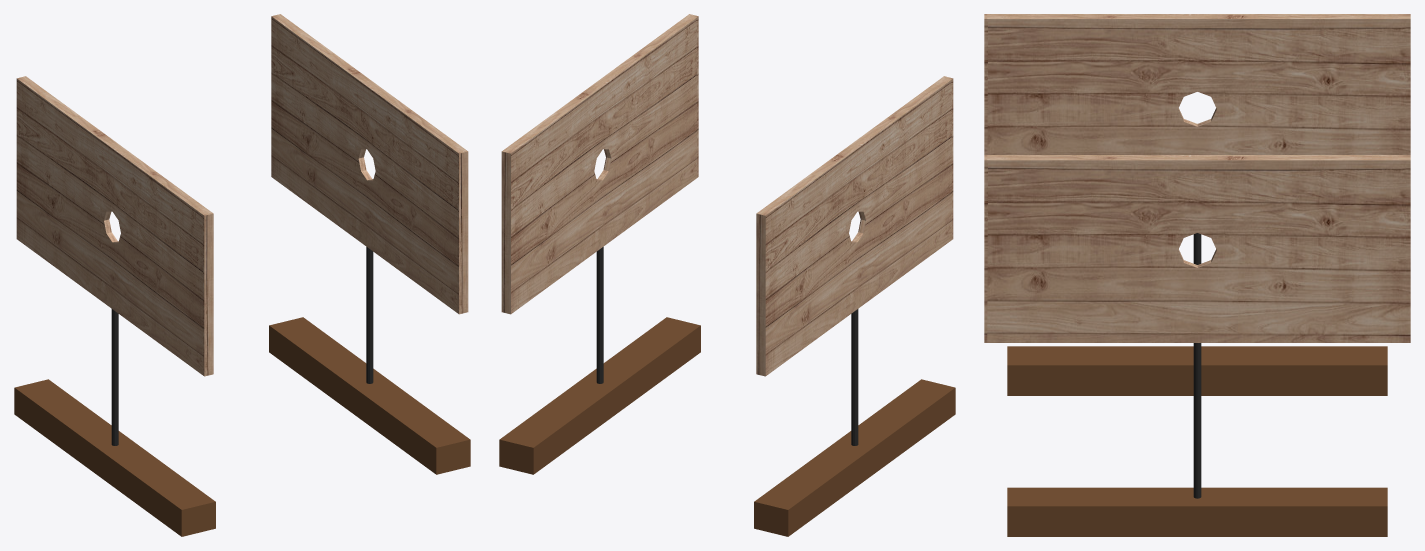
File: wooden boards.fbx
3 renders of one model, left to right at view 1: azimuth 30°, elevation 25°; view 2: azimuth 150°, elevation 25°; view 3: azimuth 270°, elevation 25°, orthographic. The views are drawn at different scales.
Visible parts, largest first — view 1: polySurface27 (×2), polySurface29 (×2), polySurface28 (×2); view 2: polySurface27 (×2), polySurface29 (×2), polySurface28 (×2); view 3: polySurface27 (×2), polySurface29 (×2), polySurface28.
Part boxes in pixels (x1,y1,x2,y2): polySurface27 (×2): (16,14,468,376); polySurface29 (×2): (14,317,470,536); polySurface28 (×2): (111,247,373,445); polySurface27 (×2): (501,14,953,376); polySurface29 (×2): (499,317,955,536); polySurface28 (×2): (596,247,858,445); polySurface27 (×2): (984,14,1410,342); polySurface29 (×2): (1007,346,1387,536); polySurface28: (1193,343,1201,498).
Size of the model in its own units: 232 by 250 by 261.
Materials: 3 (1 with a texture image).
